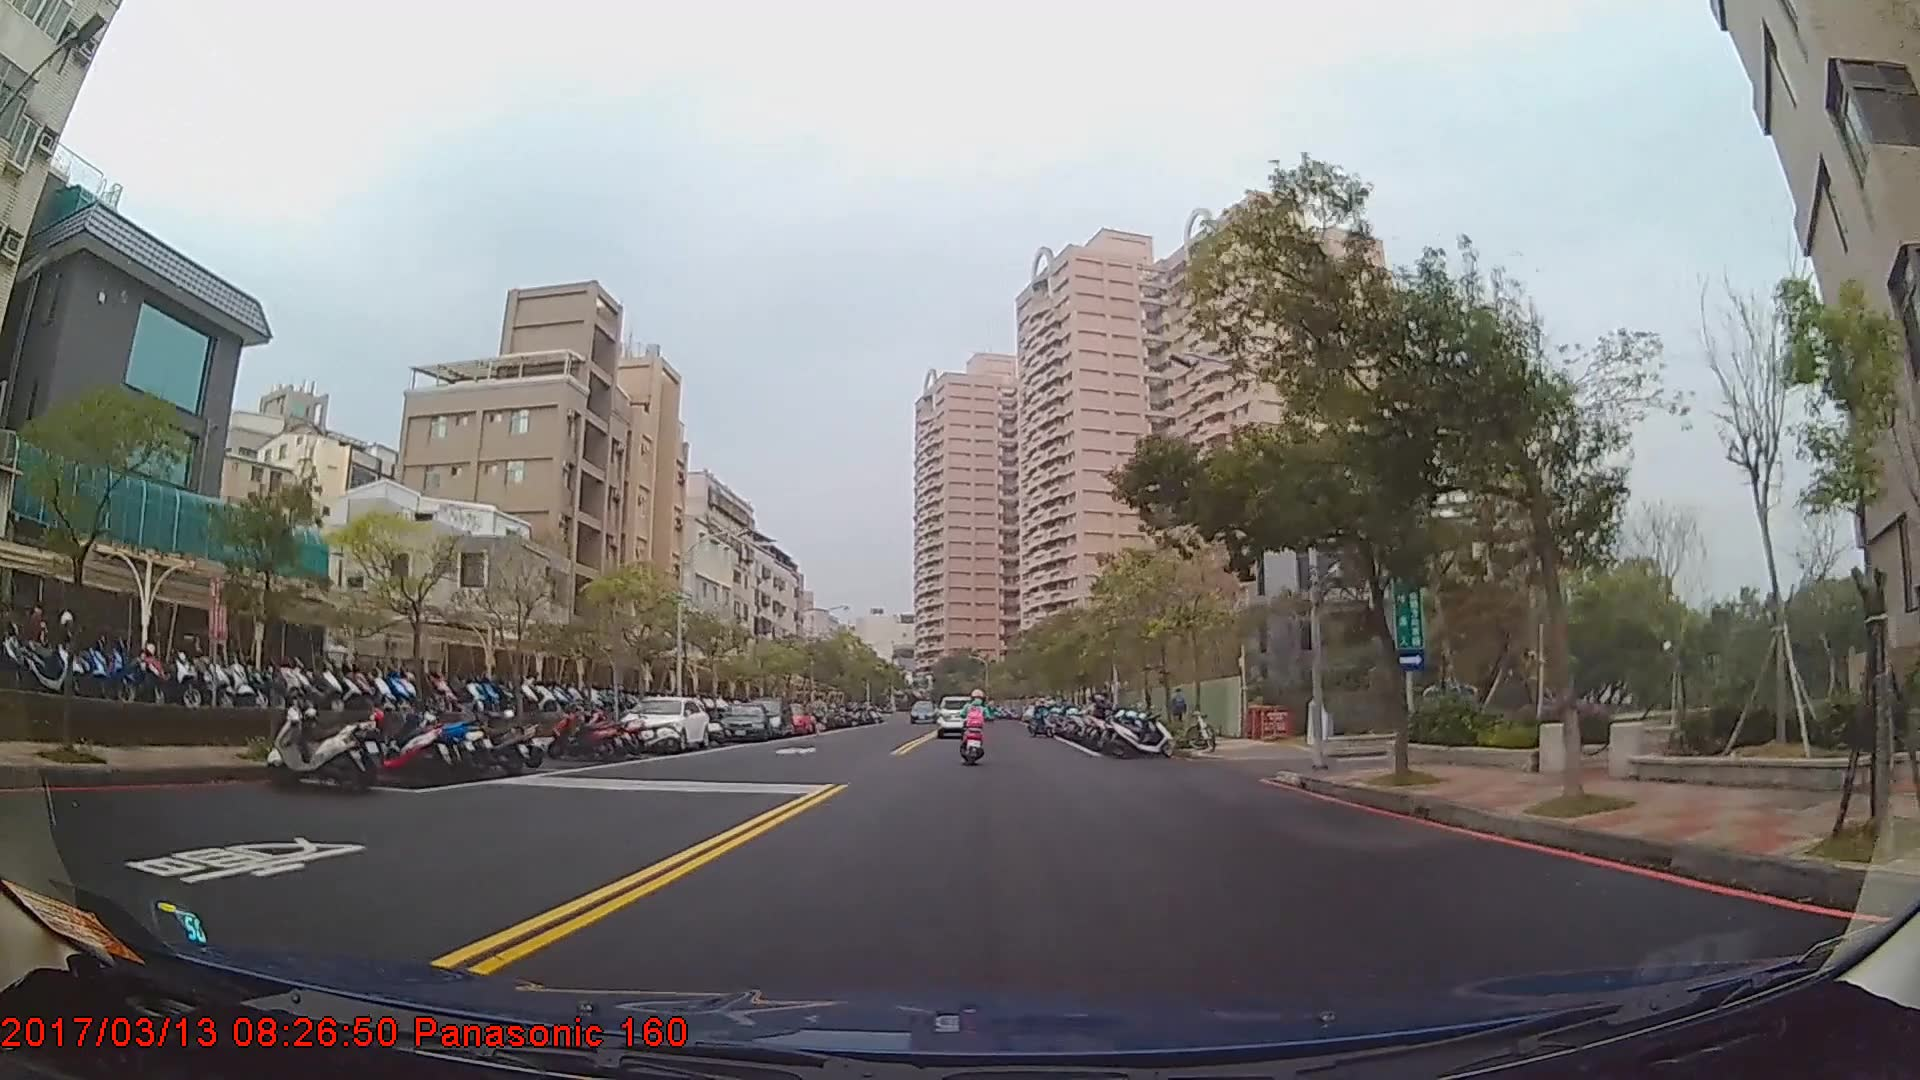pedestrian: (1169, 688, 1189, 737)
rider: (964, 686, 993, 759)
vehicle: (616, 694, 710, 751), (714, 701, 769, 742), (933, 693, 983, 738), (742, 695, 792, 739), (908, 700, 936, 724)
